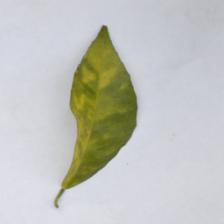greening: (60, 44, 138, 157)
